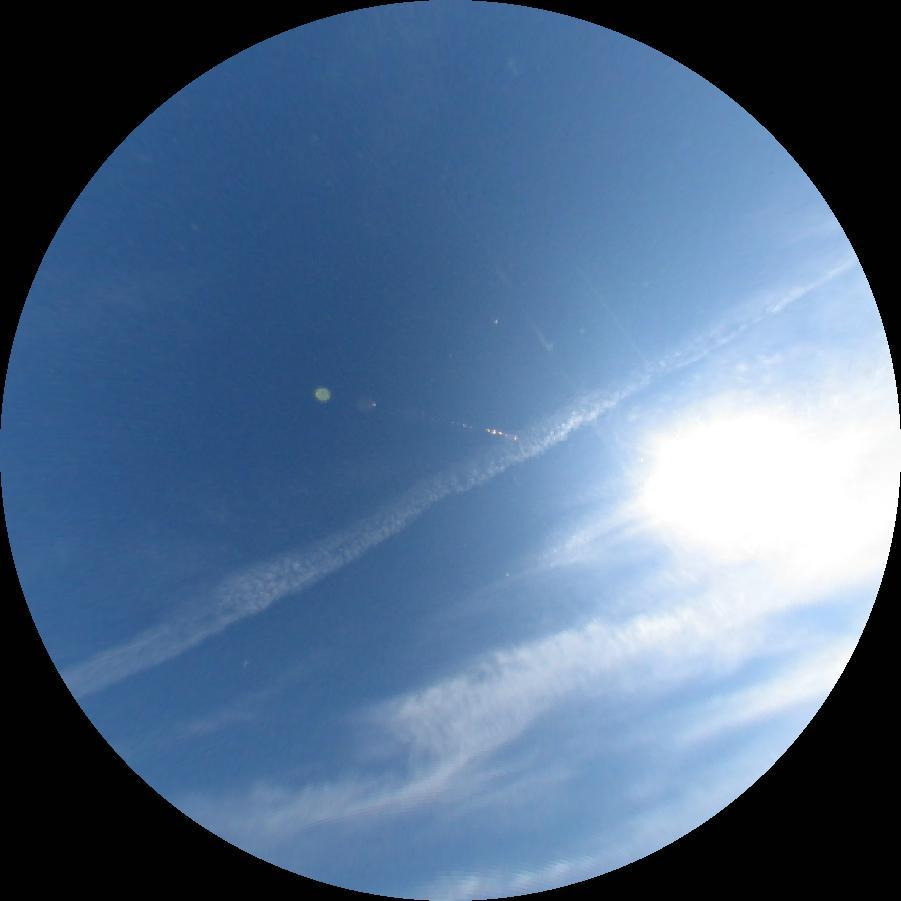contrail veryold: (55, 249, 871, 709)
sun: (664, 408, 899, 550)
unknow: (526, 314, 691, 558)
